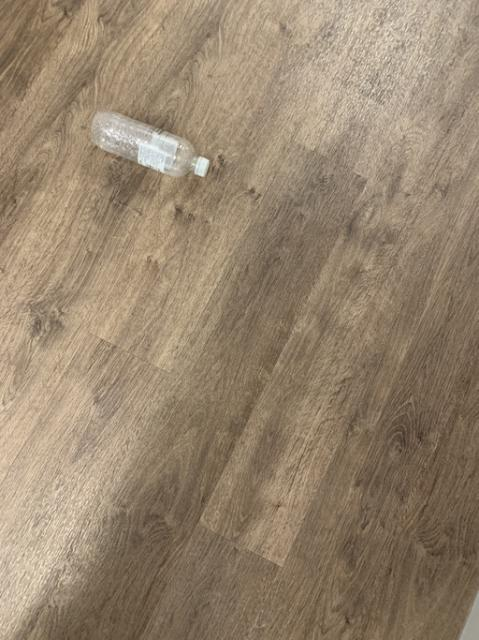plastic: (90, 110, 208, 175)
